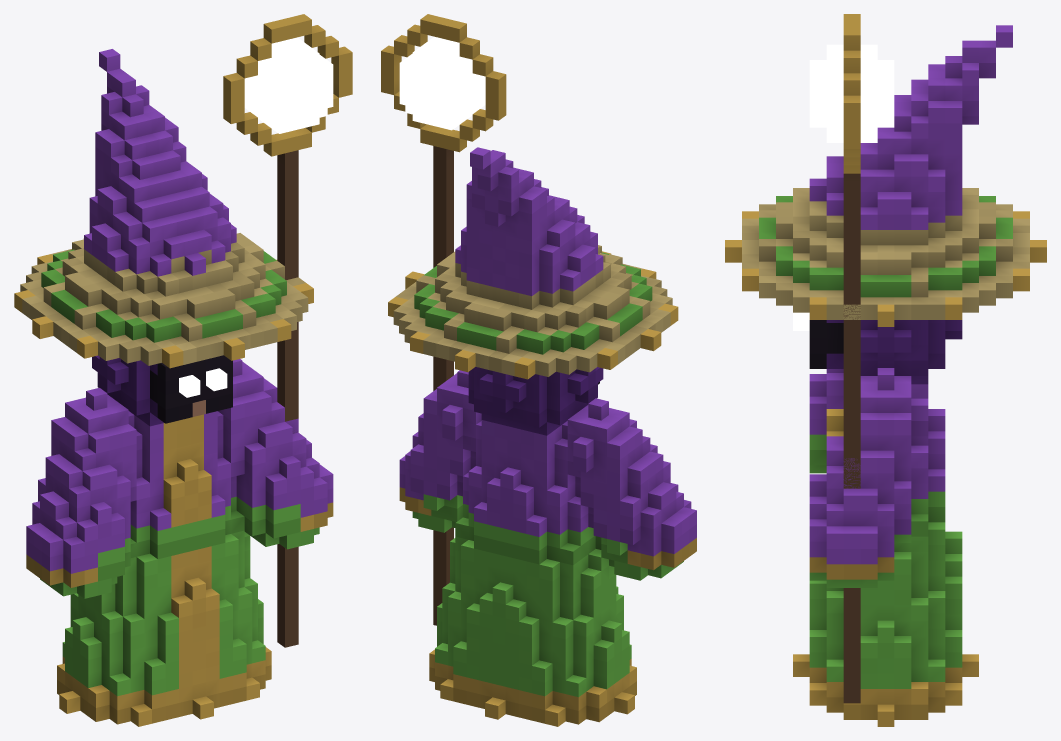
The model's file is u_oracle__moine.glb.
3 views of the same model, side by side, from view 1: azimuth 30°, elevation 25°; view 2: azimuth 150°, elevation 25°; view 3: azimuth 270°, elevation 25° (orthographic). The views are drawn at different scales.
Parts seen in each view (by area): view 1: oracle_body, oracle_weapon, oracle_weaponglow, oracle_glow; view 2: oracle_body, oracle_weapon, oracle_weaponglow; view 3: oracle_body, oracle_weapon, oracle_weaponglow.
Boxes of the visible parts, <box> form: oracle_body: <box>14,49,333,726</box>; oracle_weapon: <box>223,14,352,647</box>; oracle_weaponglow: <box>244,37,333,133</box>; oracle_glow: <box>179,368,227,397</box>; oracle_body: <box>388,147,696,726</box>; oracle_weapon: <box>381,14,506,625</box>; oracle_weaponglow: <box>399,36,485,130</box>; oracle_body: <box>725,25,1046,726</box>; oracle_weapon: <box>843,14,860,703</box>; oracle_weaponglow: <box>809,44,894,142</box>.
Size of the model in its own units: 1.15 by 2.3 by 0.95.
